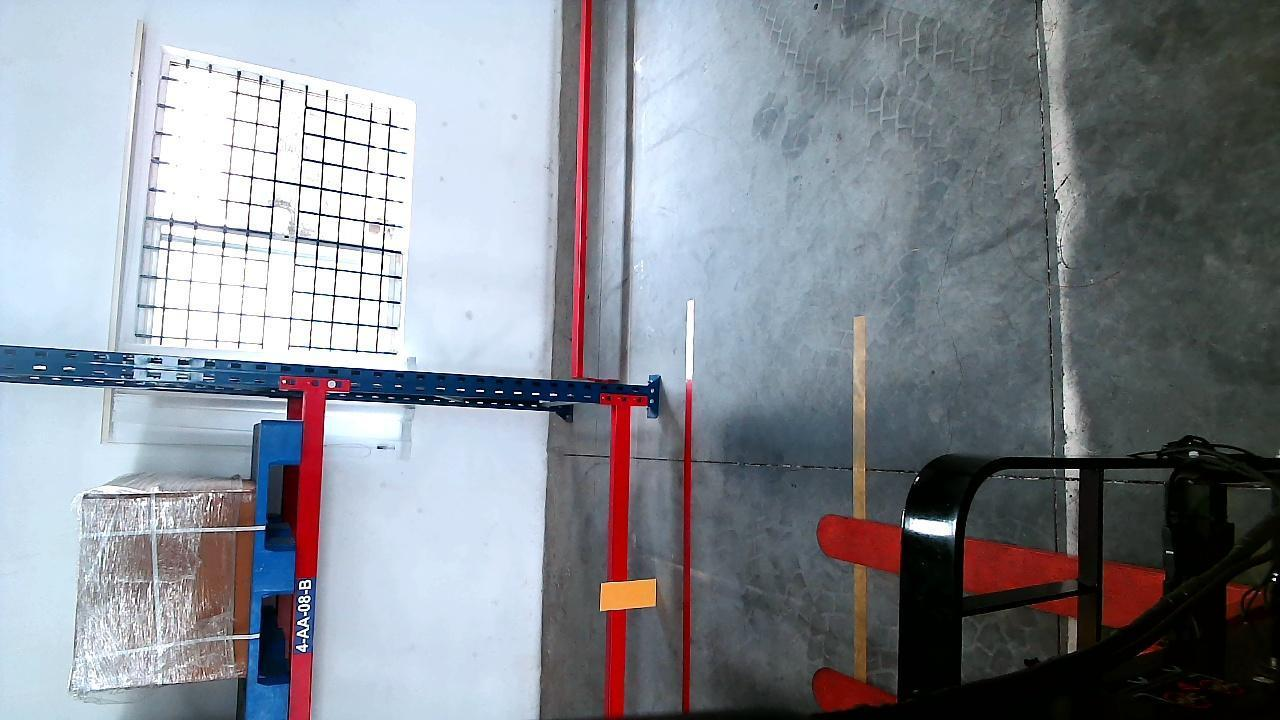h_rack: (288, 391, 325, 720), (608, 394, 636, 715)
orange_strip: (603, 579, 656, 609)
red_line: (676, 326, 698, 701)
small_pallet: (246, 422, 303, 720)
yellow_line: (850, 313, 868, 687)
